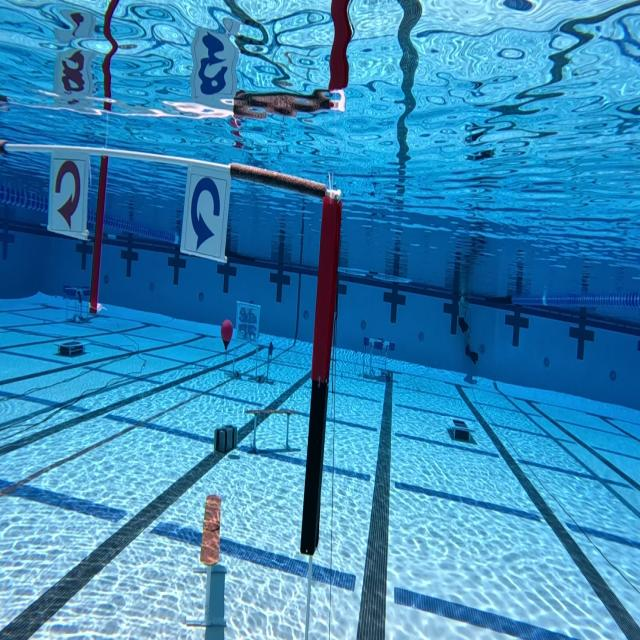blue_side: (180, 165, 232, 263)
red_side: (46, 150, 91, 240)
